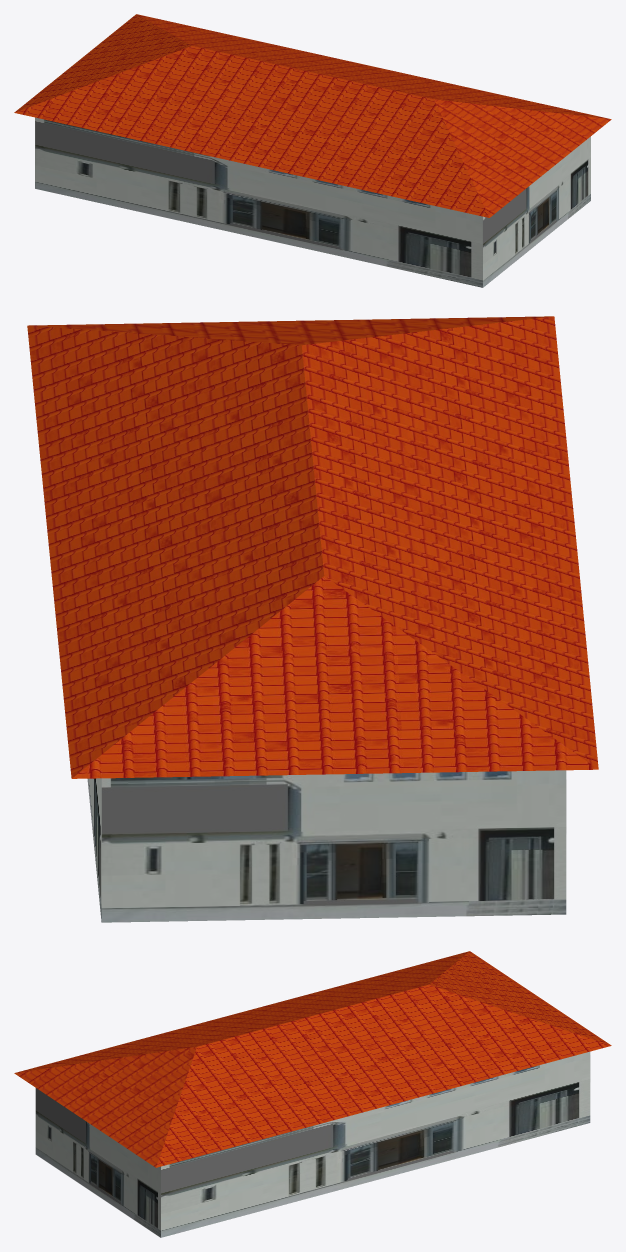
The picture shows the model from 3 angles, top to bottom: view 1: azimuth 30°, elevation 25°; view 2: azimuth 150°, elevation 25°; view 3: azimuth 270°, elevation 25°; orthographic projection. The views are drawn at different scales.
Parts seen in each view (by area): view 1: CityEngineMaterial_12_m, CityEngineMaterial_11_m; view 2: CityEngineMaterial_12_m, CityEngineMaterial_11_m; view 3: CityEngineMaterial_12_m, CityEngineMaterial_11_m.
Part boxes in pixels (x1,y1,x2,y2): CityEngineMaterial_12_m: [14, 14, 611, 217]; CityEngineMaterial_11_m: [35, 117, 590, 287]; CityEngineMaterial_12_m: [27, 316, 598, 778]; CityEngineMaterial_11_m: [87, 770, 566, 922]; CityEngineMaterial_12_m: [14, 951, 611, 1167]; CityEngineMaterial_11_m: [35, 1051, 590, 1237].
Bounding box in the file's own units: 30.66 × 8.11 × 35.73.
